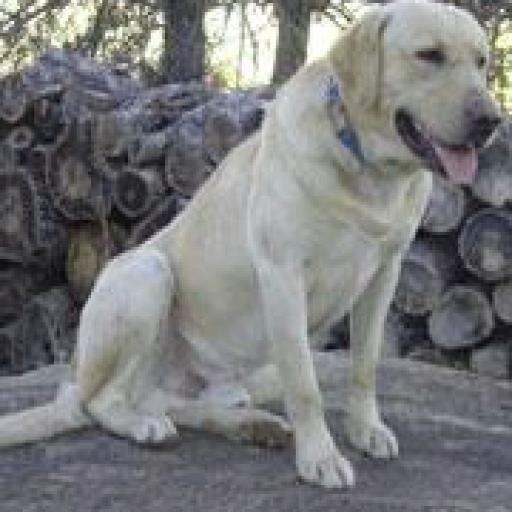dog_face: (335, 0, 512, 186)
